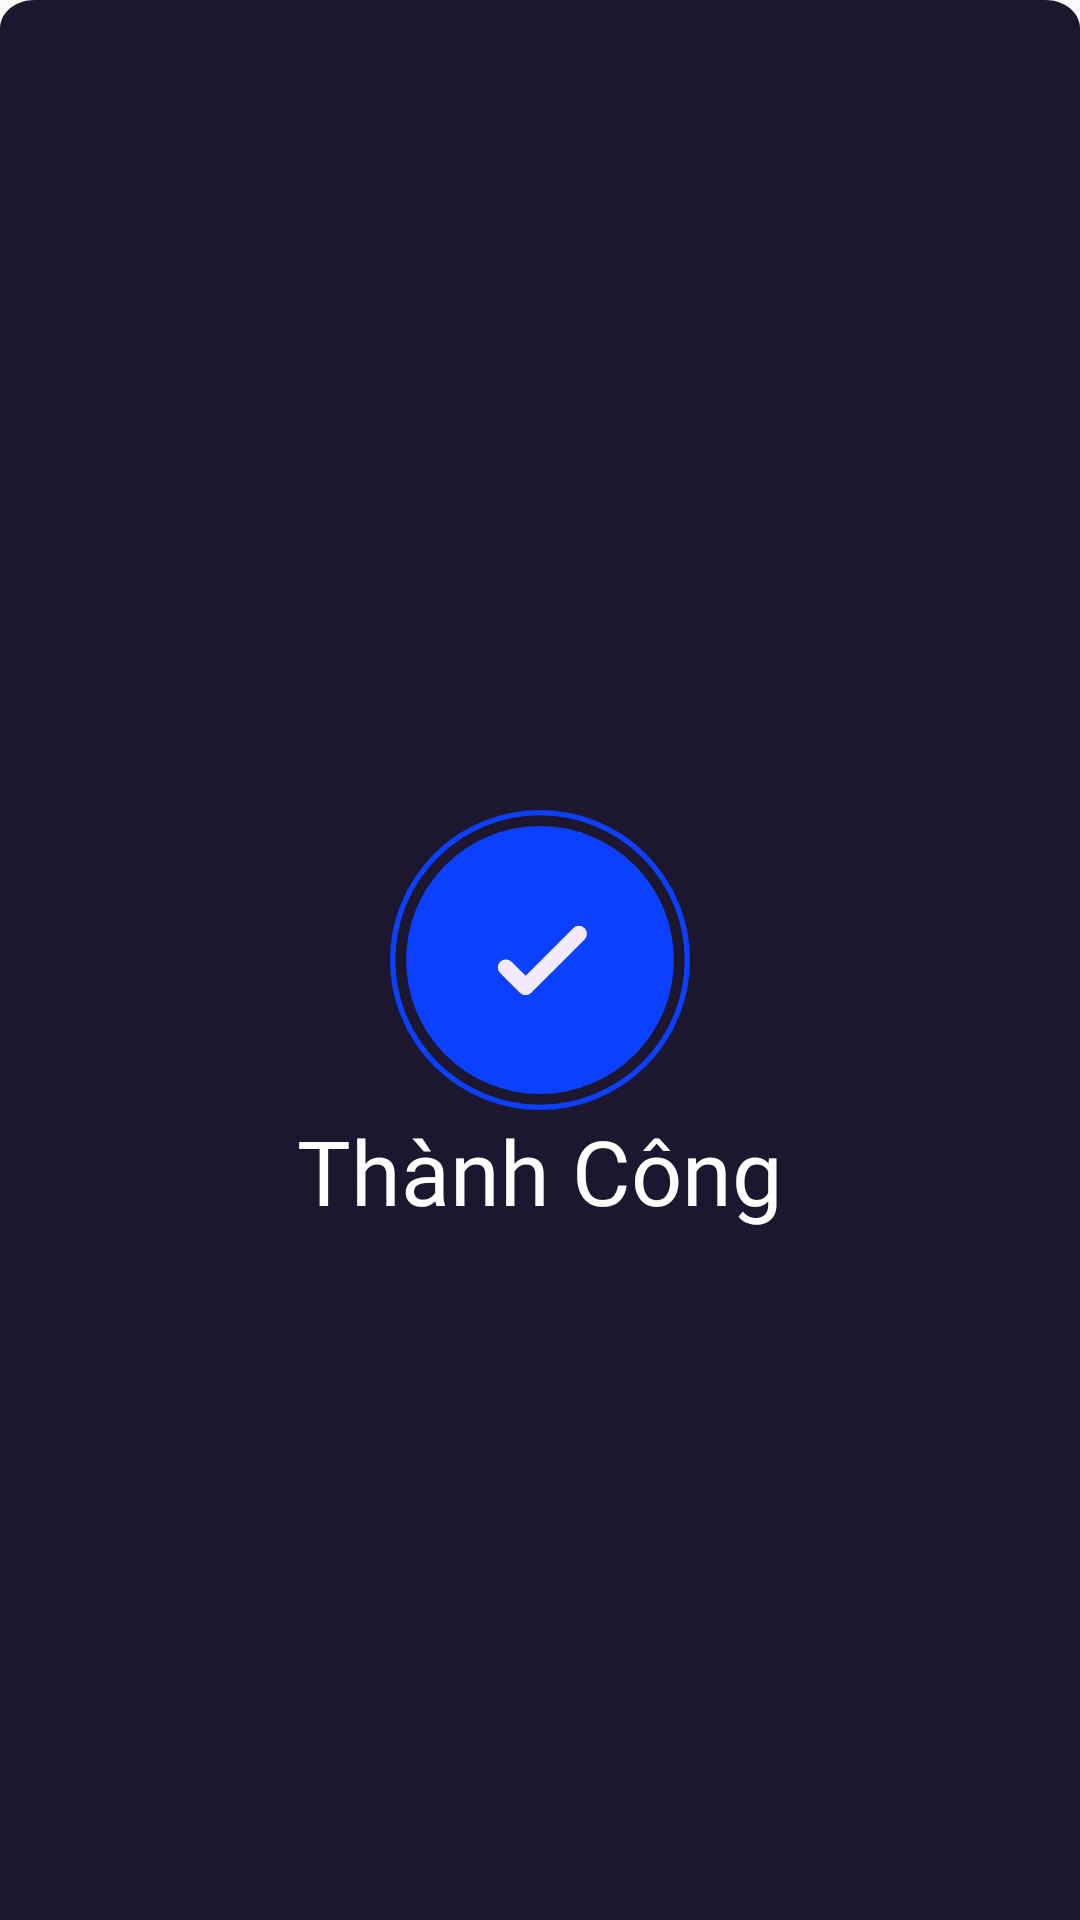

Where icons sit on this 1080px×1920px app screen, as (x1=x1, y1=y1, x2=x2, y2=y2):
check: (x1=390, y1=810, x2=690, y2=1110)
